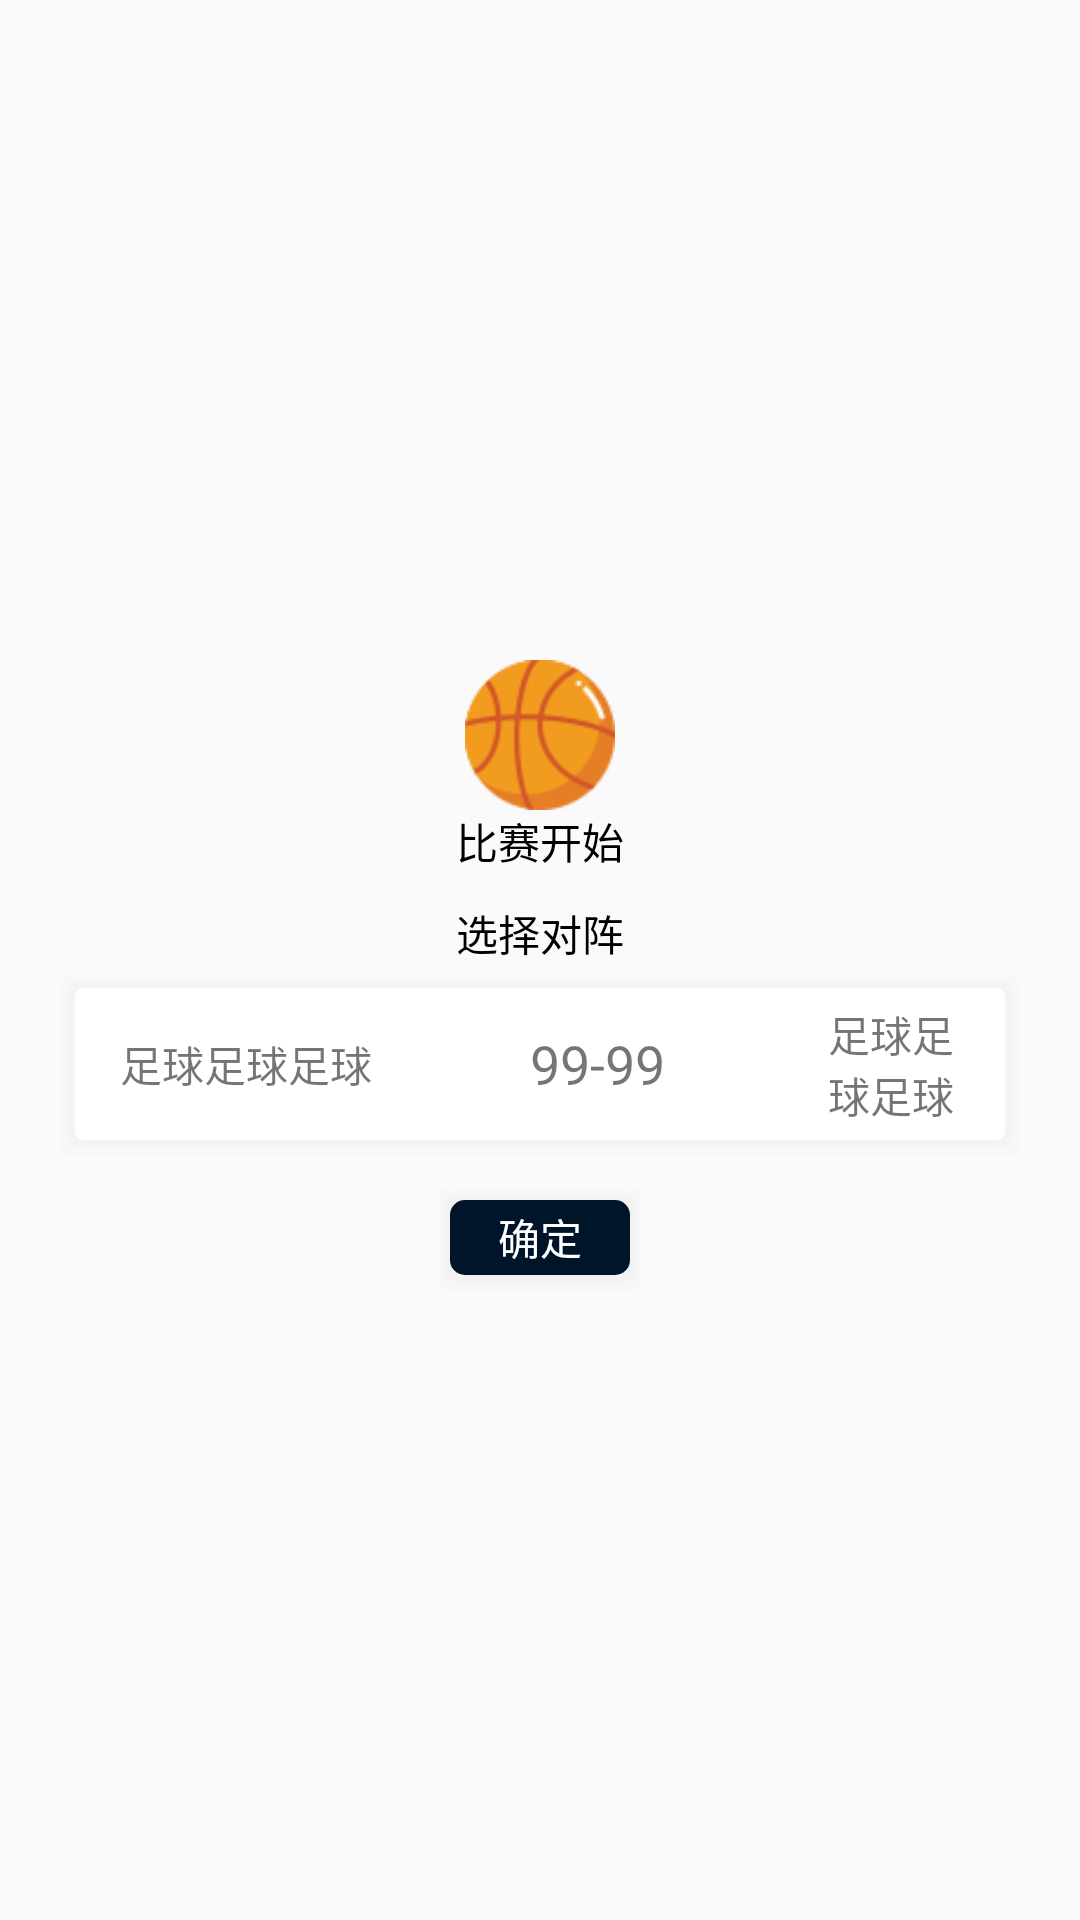

Icons on this 1080×1920 Android screen, each with its box as box(x1, y1, x2, y2):
result ball: box(465, 660, 615, 810)
